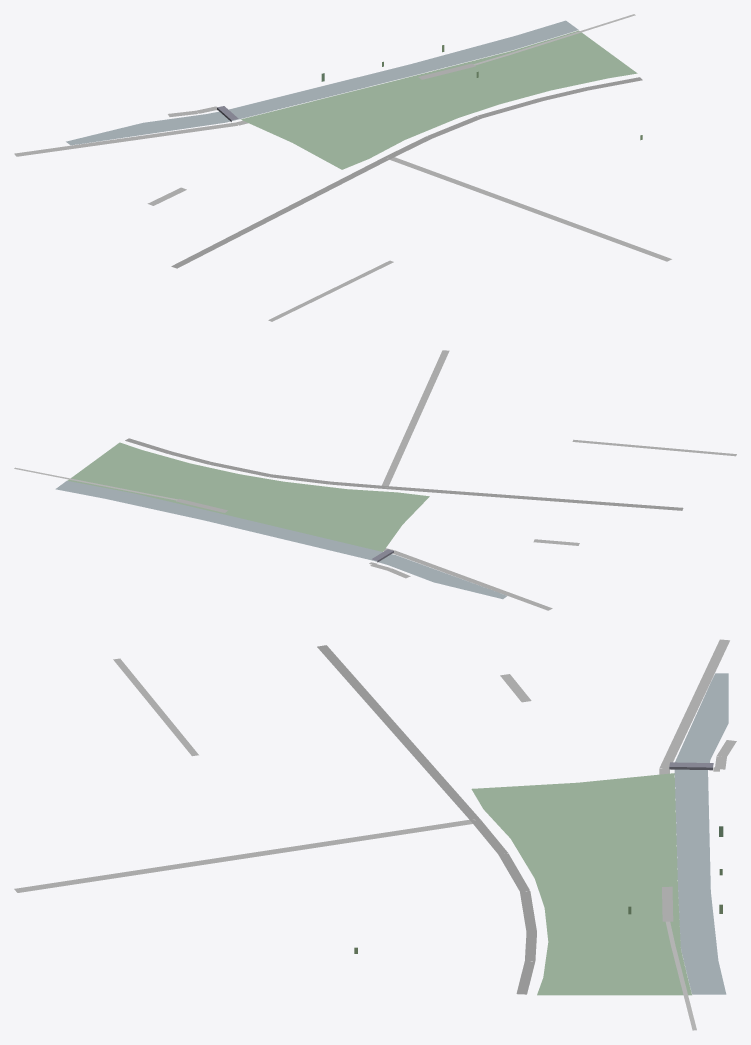
The picture shows the model from 3 angles, top to bottom: view 1: azimuth 30°, elevation 25°; view 2: azimuth 150°, elevation 25°; view 3: azimuth 270°, elevation 25°; orthographic projection. The views are drawn at different scales.
Size of the model in its own units: 610 by 10.46 by 475.
